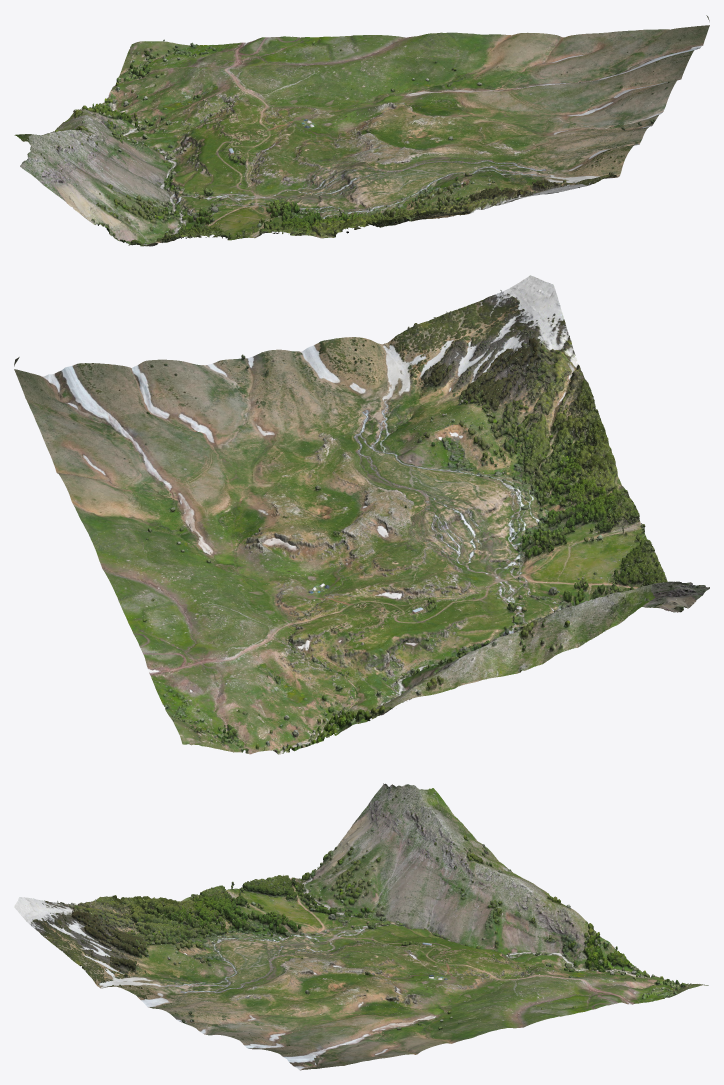
File: medium.glb
3 views of the same model, one above another, from view 1: azimuth 30°, elevation 25°; view 2: azimuth 150°, elevation 25°; view 3: azimuth 270°, elevation 25° (orthographic). The views are drawn at different scales.
Parts seen in each view (by area): view 1: konarli; view 2: konarli; view 3: konarli.
Boxes of the visible parts, box(x1,y1,x2,y2) form: konarli: box(14, 15, 709, 246); konarli: box(14, 275, 709, 754); konarli: box(14, 783, 708, 1070).
Bounding box in the file's own units: 1402 × 286 × 1411.
Materials: 12 (12 with a texture image).
